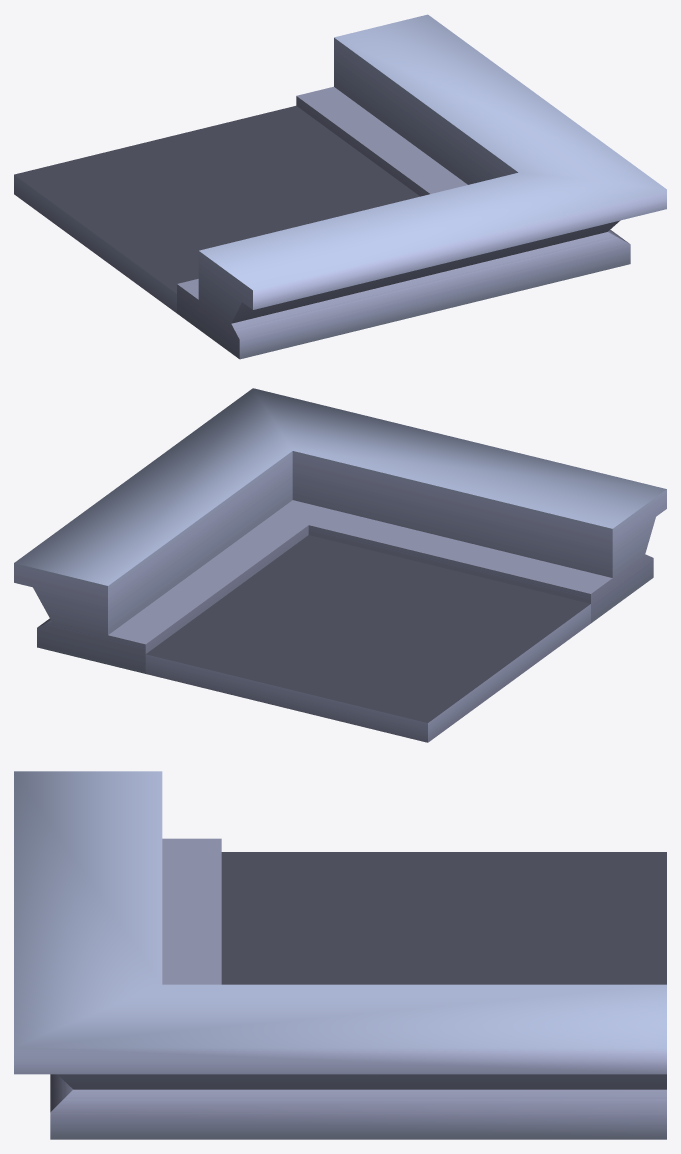
File: kenney-building-roof-flat-corner.glb
The picture shows the model from 3 angles, top to bottom: view 1: azimuth 30°, elevation 25°; view 2: azimuth 150°, elevation 25°; view 3: azimuth 270°, elevation 25°; orthographic projection. The views are drawn at different scales.
Parts seen in each view (by area): view 1: roof-flat-corner; view 2: roof-flat-corner; view 3: roof-flat-corner.
Part boxes in pixels (bbox=[...]): roof-flat-corner: bbox=[14, 14, 666, 359]; roof-flat-corner: bbox=[14, 388, 666, 742]; roof-flat-corner: bbox=[14, 771, 666, 1139].
Size of the model in its own units: 2.2 by 0.3999 by 2.2.
Materials: 1 (1 with a texture image).
